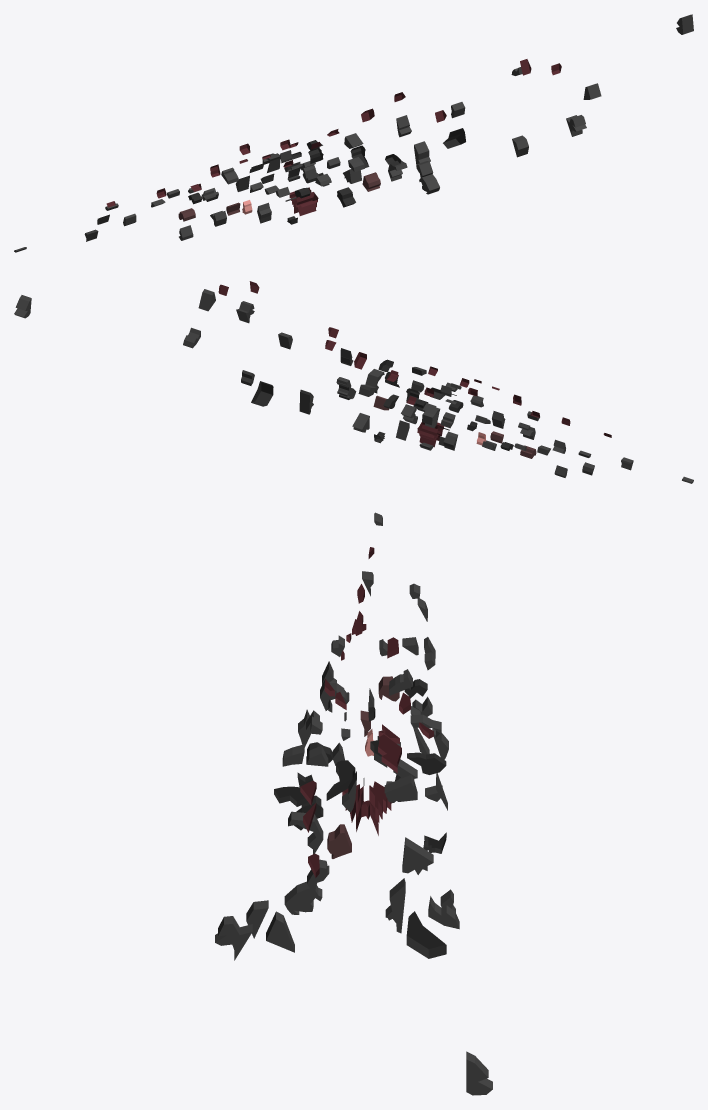
The picture shows the model from 3 angles, top to bottom: view 1: azimuth 30°, elevation 25°; view 2: azimuth 150°, elevation 25°; view 3: azimuth 270°, elevation 25°; orthographic projection. The views are drawn at different scales.
Parts seen in each view (by area): view 1: Plane.002, Plane.003, Plane.006, Plane.005, Plane.017; view 2: Plane.002, Plane.003, Plane.005, Plane.006, Plane.013; view 3: Plane.002, Plane.003, Plane.005, Plane.006, Plane.013, Plane.017.
Boxes of the visible parts, bbox=[...] form: Plane.002: bbox=[14, 14, 693, 252]; Plane.003: bbox=[106, 59, 561, 207]; Plane.006: bbox=[178, 172, 380, 221]; Plane.005: bbox=[289, 187, 318, 215]; Plane.017: bbox=[291, 145, 369, 167]; Plane.002: bbox=[14, 289, 693, 483]; Plane.003: bbox=[218, 281, 611, 437]; Plane.005: bbox=[417, 422, 443, 447]; Plane.006: bbox=[373, 395, 536, 458]; Plane.013: bbox=[251, 381, 273, 406]; Plane.002: bbox=[215, 512, 492, 1095]; Plane.003: bbox=[300, 547, 410, 877]; Plane.005: bbox=[342, 781, 392, 835]; Plane.006: bbox=[327, 676, 399, 858]; Plane.013: bbox=[406, 911, 446, 958]; Plane.017: bbox=[326, 707, 387, 800].
Size of the model in its own units: 2479 by 386 by 458.
